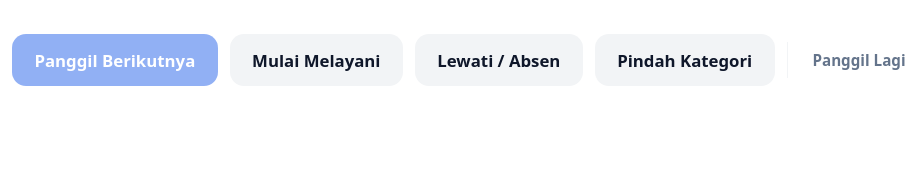
Test: ActionControls (FR-CLR-02 / QUE-20) › surfaces an inline error when a command fails
This screenshot has width=922, height=172.
Click the button with test id "action-status-SERVING": coordinates (316, 60) [230, 34, 403, 86]
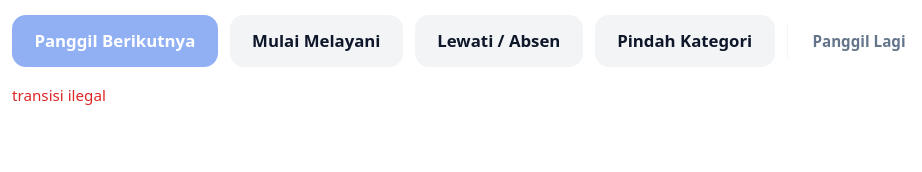
Expected: the text "transisi ilegal" is shown, [12, 85, 106, 105]
